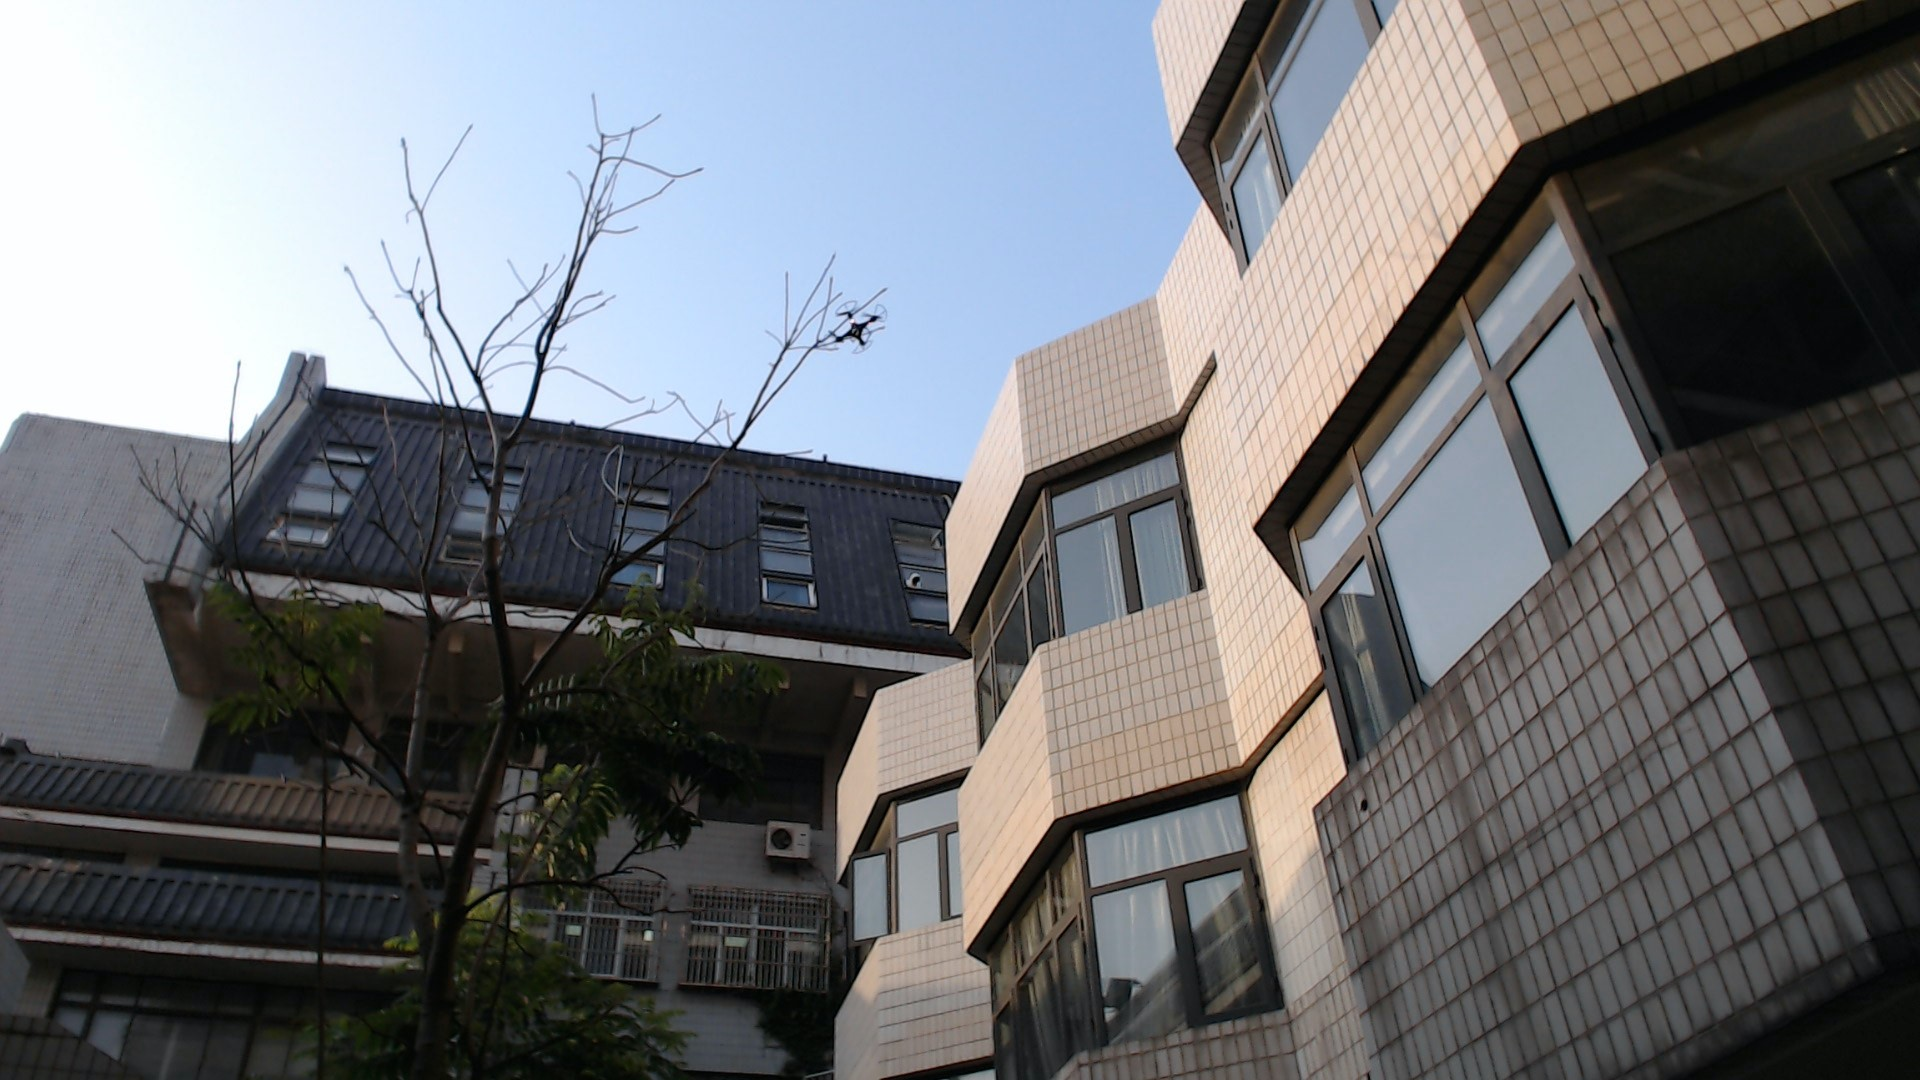drone: (795, 272, 923, 386)
